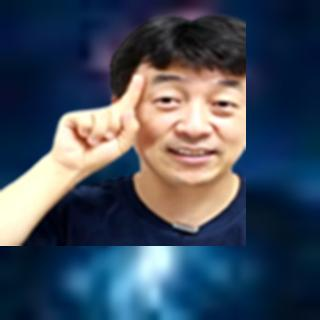IRRITATED: (46, 68, 147, 176)
